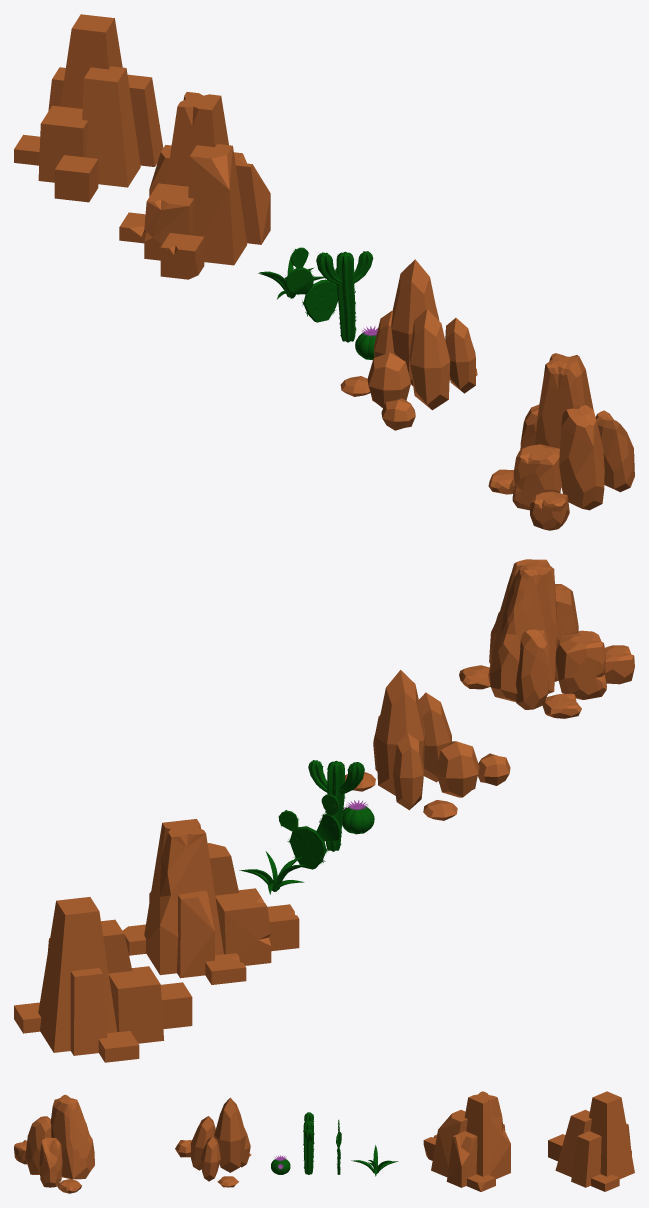
The model's file is 6_desertplants.glb.
The picture shows the model from 3 angles, top to bottom: view 1: azimuth 30°, elevation 25°; view 2: azimuth 150°, elevation 25°; view 3: azimuth 270°, elevation 25°; orthographic projection. The views are drawn at different scales.
Visible parts, largest first — view 1: rock_02_rock02, rock_03_rock03, rock_07, rock_01_rock01, Cactuss_02_cactus02, Cactus_01_cactus01; view 2: rock_02_rock02, rock_03_rock03, rock_07, rock_01_rock01, Cactus_01_cactus01, Cactuss_02_cactus02, Aloe._01_aloe.002, Cactus_03_cactus03; view 3: rock_02_rock02, rock_03_rock03, rock_07, rock_01_rock01, Cactuss_02_cactus02, Aloe._01_aloe.002, Cactus_03_cactus03, Cactus_01_cactus01.
Part boxes in pixels (<box>): rock_02_rock02: <box>119,92,270,279</box>; rock_03_rock03: <box>14,14,163,202</box>; rock_07: <box>488,353,634,530</box>; rock_01_rock01: <box>340,259,477,430</box>; Cactuss_02_cactus02: <box>316,251,373,342</box>; Cactus_01_cactus01: <box>284,247,338,322</box>; rock_02_rock02: <box>122,819,299,984</box>; rock_03_rock03: <box>14,897,192,1062</box>; rock_07: <box>459,559,634,718</box>; rock_01_rock01: <box>345,670,510,820</box>; Cactus_01_cactus01: <box>278,794,341,869</box>; Cactuss_02_cactus02: <box>308,760,364,851</box>; Aloe._01_aloe.002: <box>239,851,307,894</box>; Cactus_03_cactus03: <box>342,806,374,834</box>; rock_02_rock02: <box>423,1091,510,1191</box>; rock_03_rock03: <box>548,1091,634,1191</box>; rock_07: <box>14,1094,94,1193</box>; rock_01_rock01: <box>175,1097,251,1187</box>; Cactuss_02_cactus02: <box>303,1112,314,1174</box>; Aloe._01_aloe.002: <box>351,1145,398,1176</box>; Cactus_03_cactus03: <box>271,1159,290,1174</box>; Cactus_01_cactus01: <box>336,1120,341,1174</box>.
Size of the model in its own units: 3.92 by 3.14 by 23.28.
